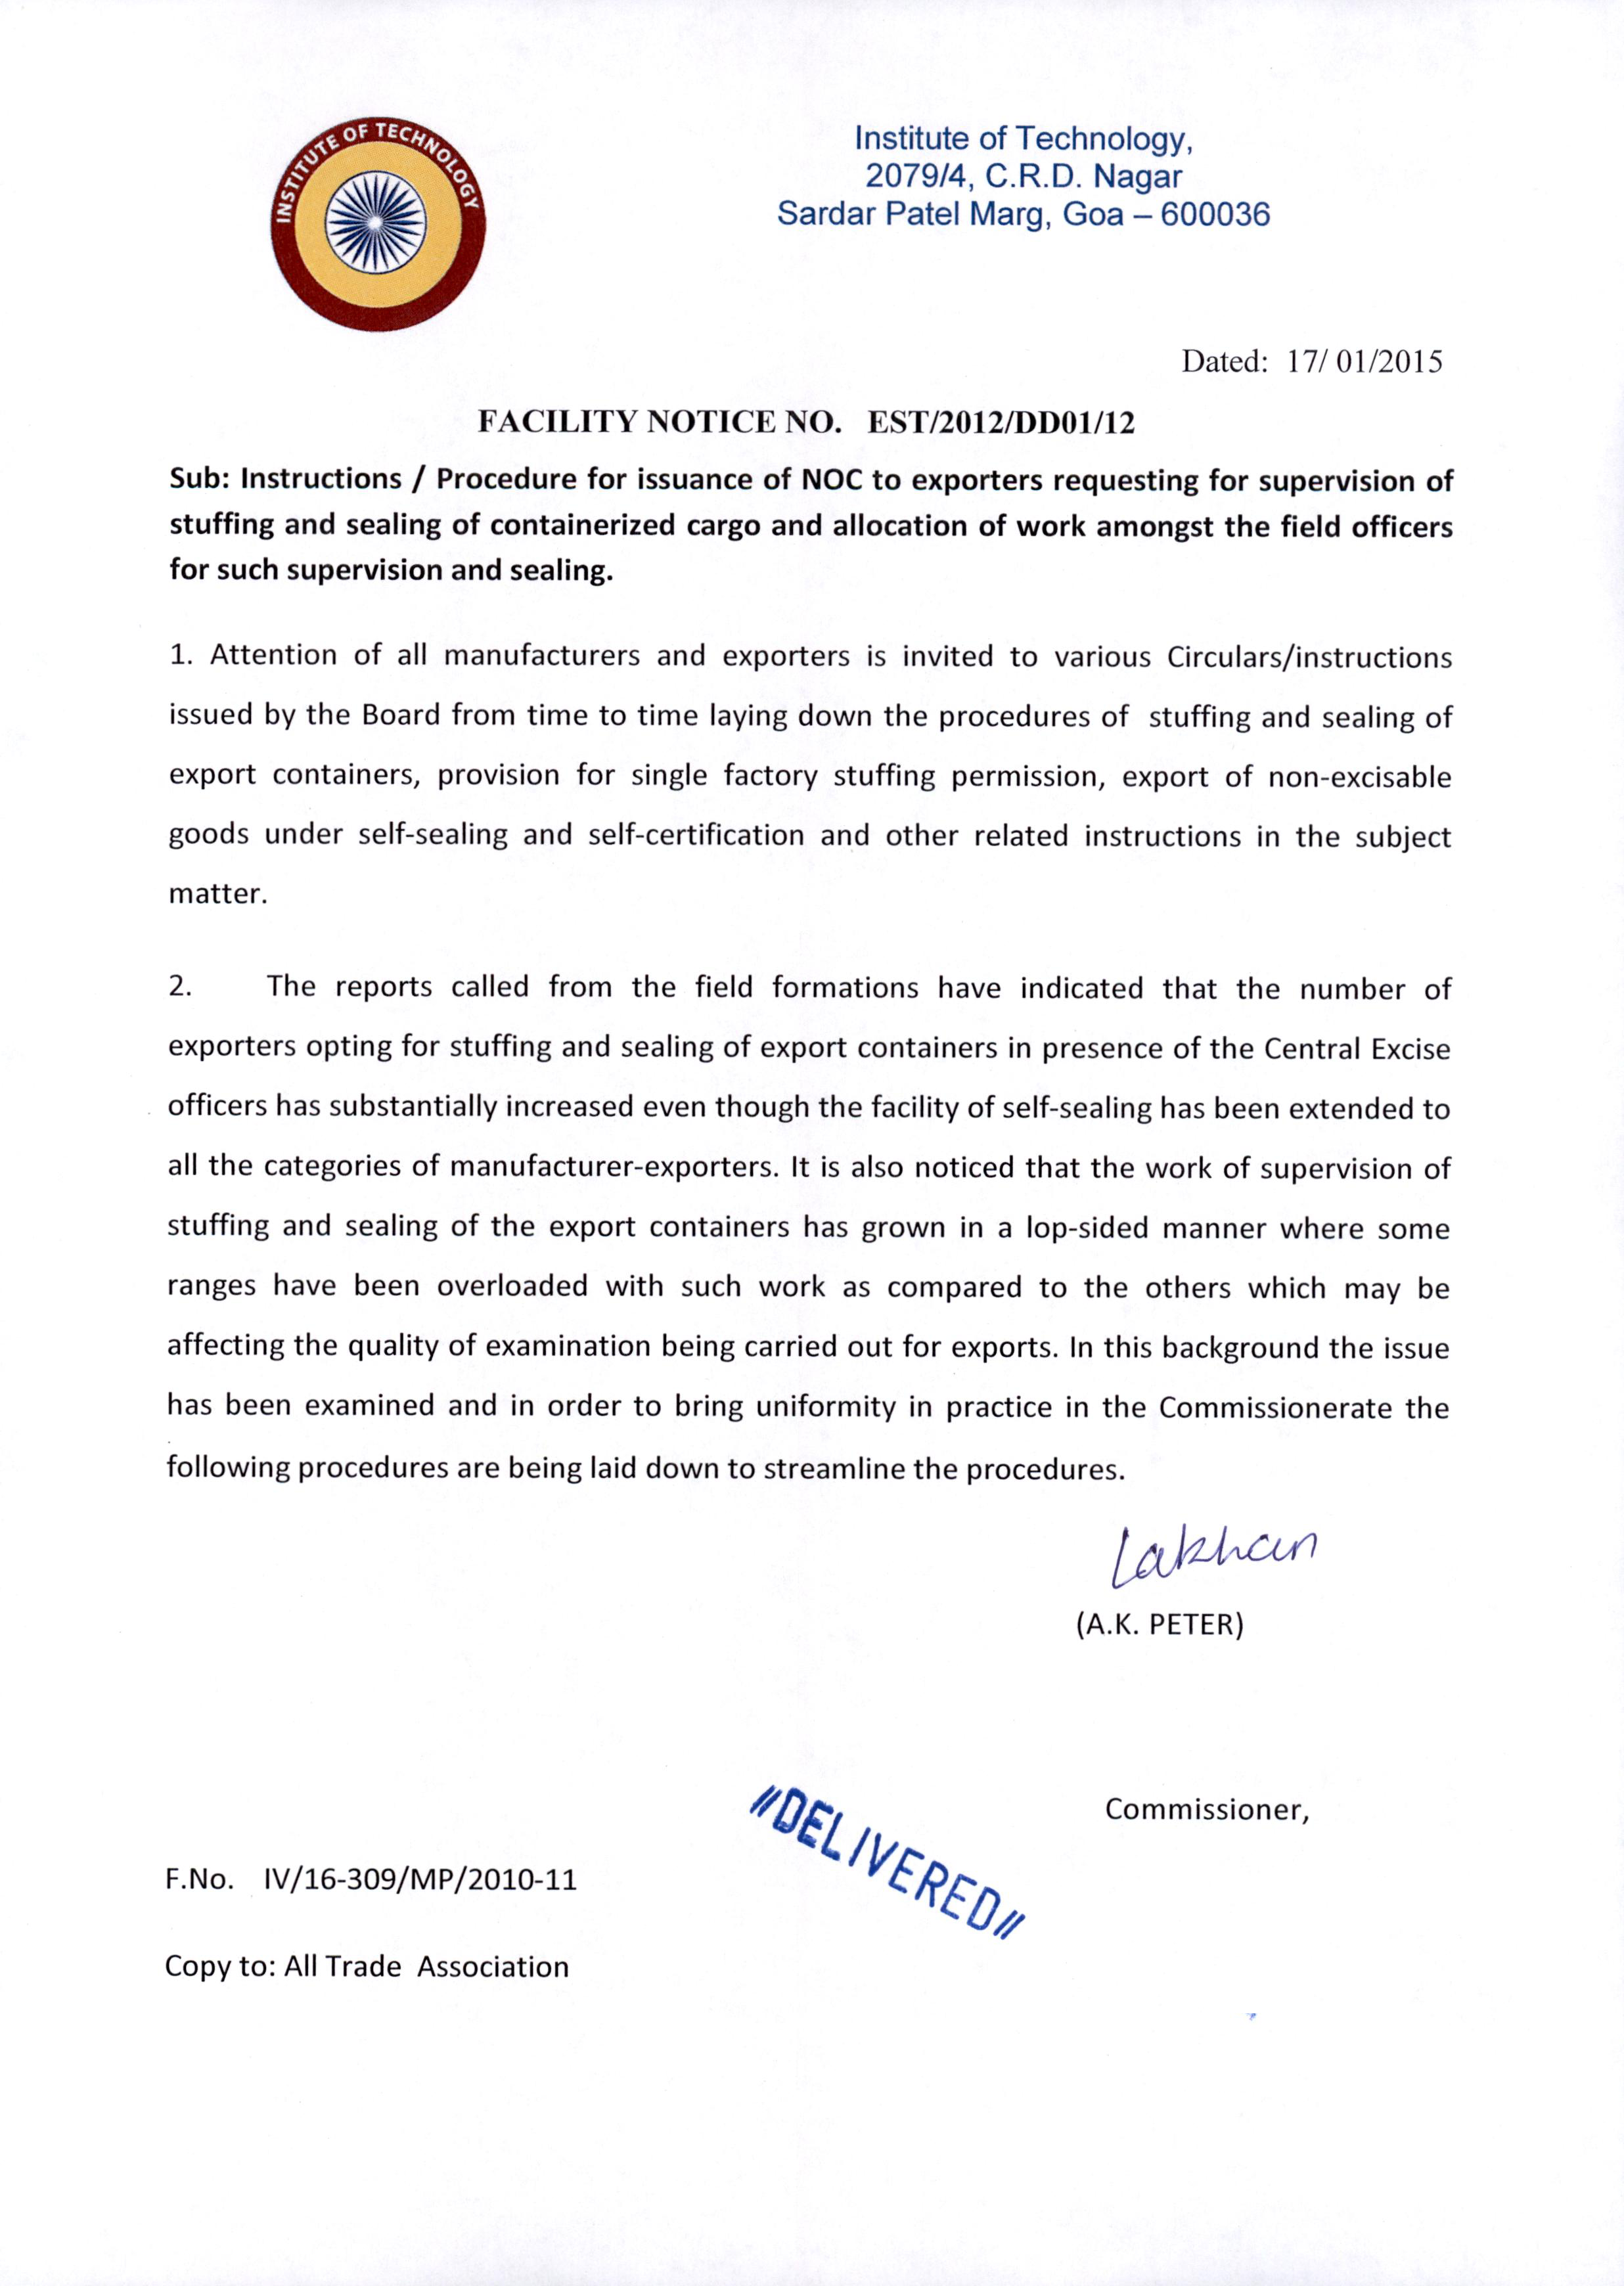Signature: (1106, 1513, 1327, 1594)
